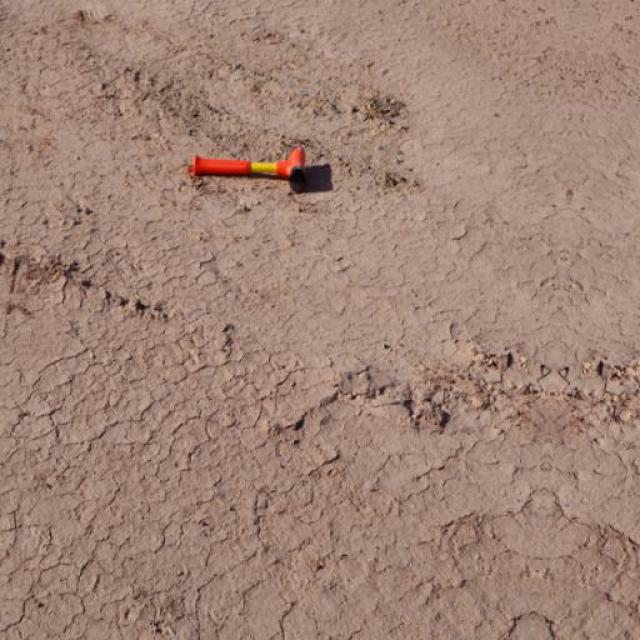mallet: (188, 144, 308, 184)
